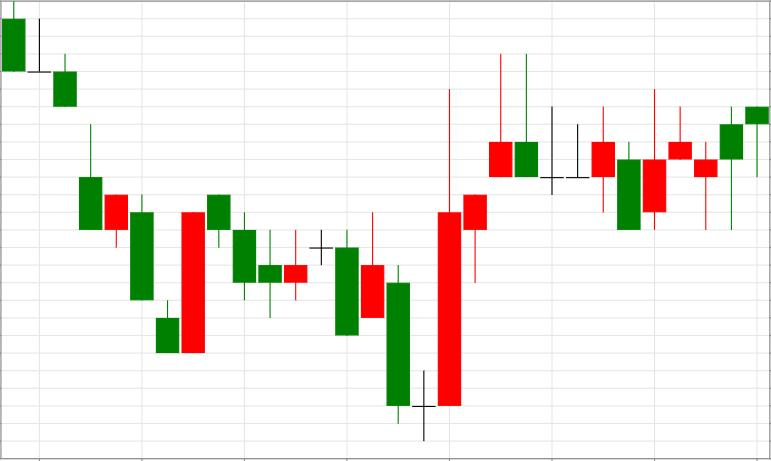bullish_engulfing_rise: (1, 0, 204, 353)
morning_star_rise: (208, 90, 461, 441)
